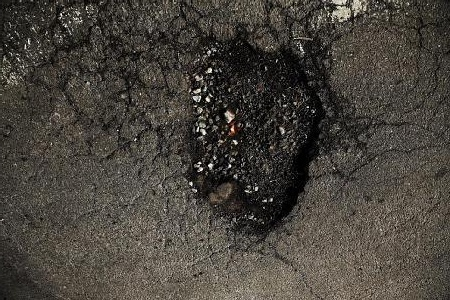pothole: (174, 36, 339, 241)
